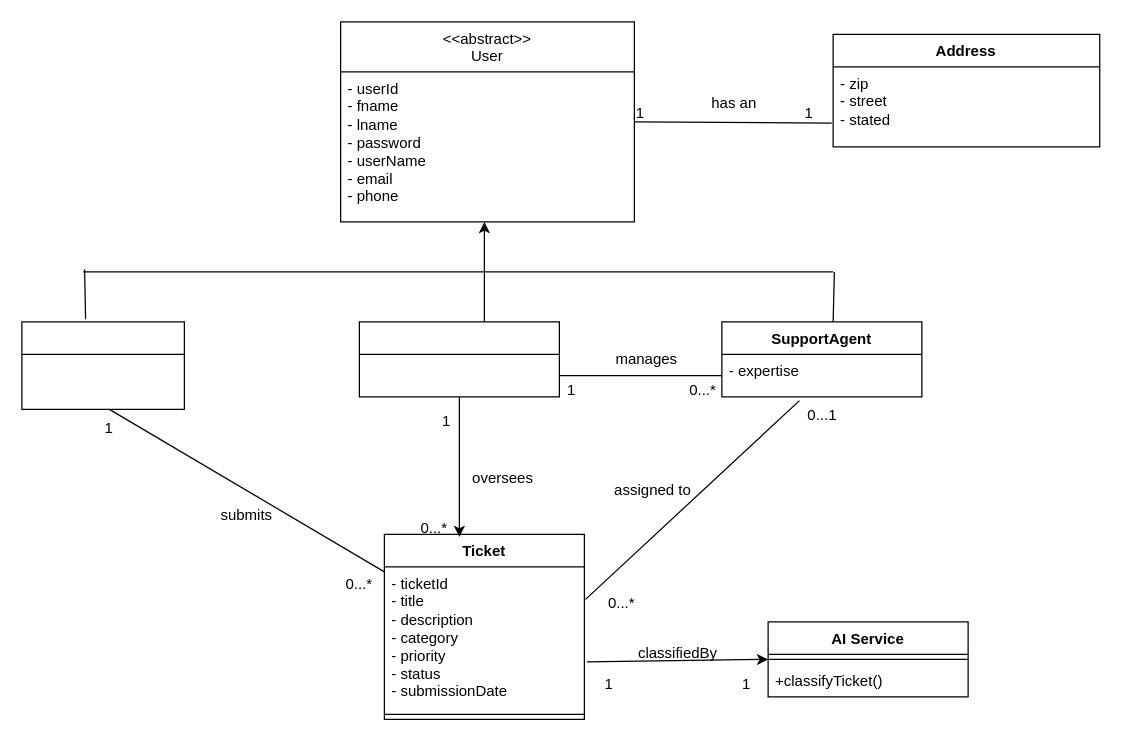
Some shapes in this 1123 by 741 pixel diagram are drawn without their labels. The centre of each missing label's shape, as x and y in pixels:
Customer: point 102,365
Manager: point 458,359
